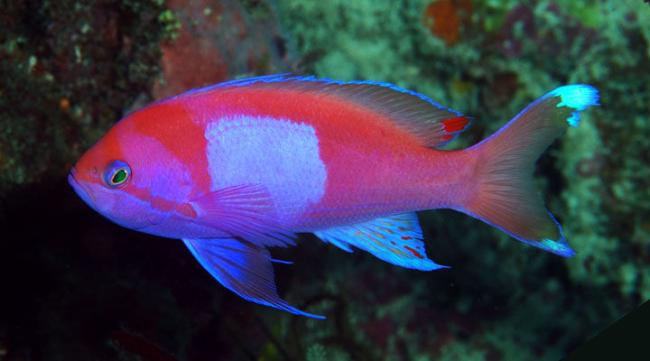fish: (66, 73, 599, 319)
